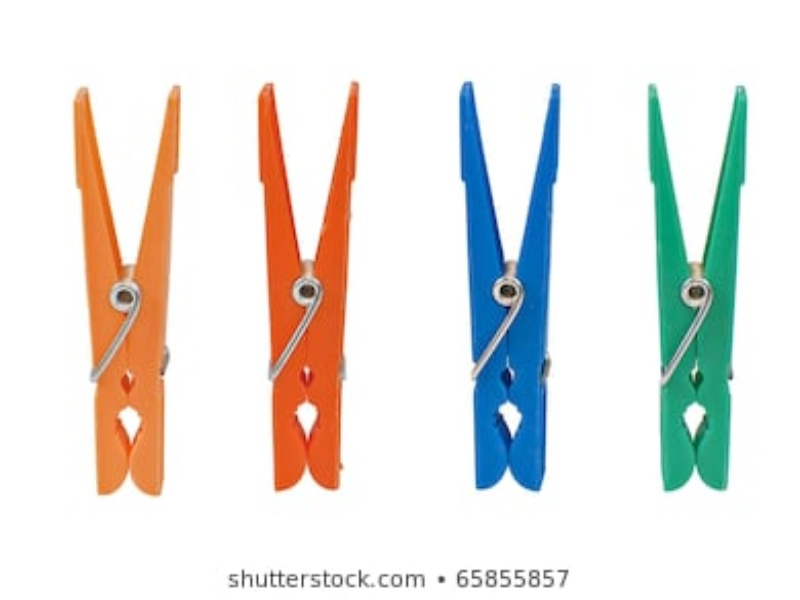plastic-peg: (72, 86, 181, 497), (456, 79, 565, 490), (253, 81, 362, 492), (643, 80, 752, 491)
